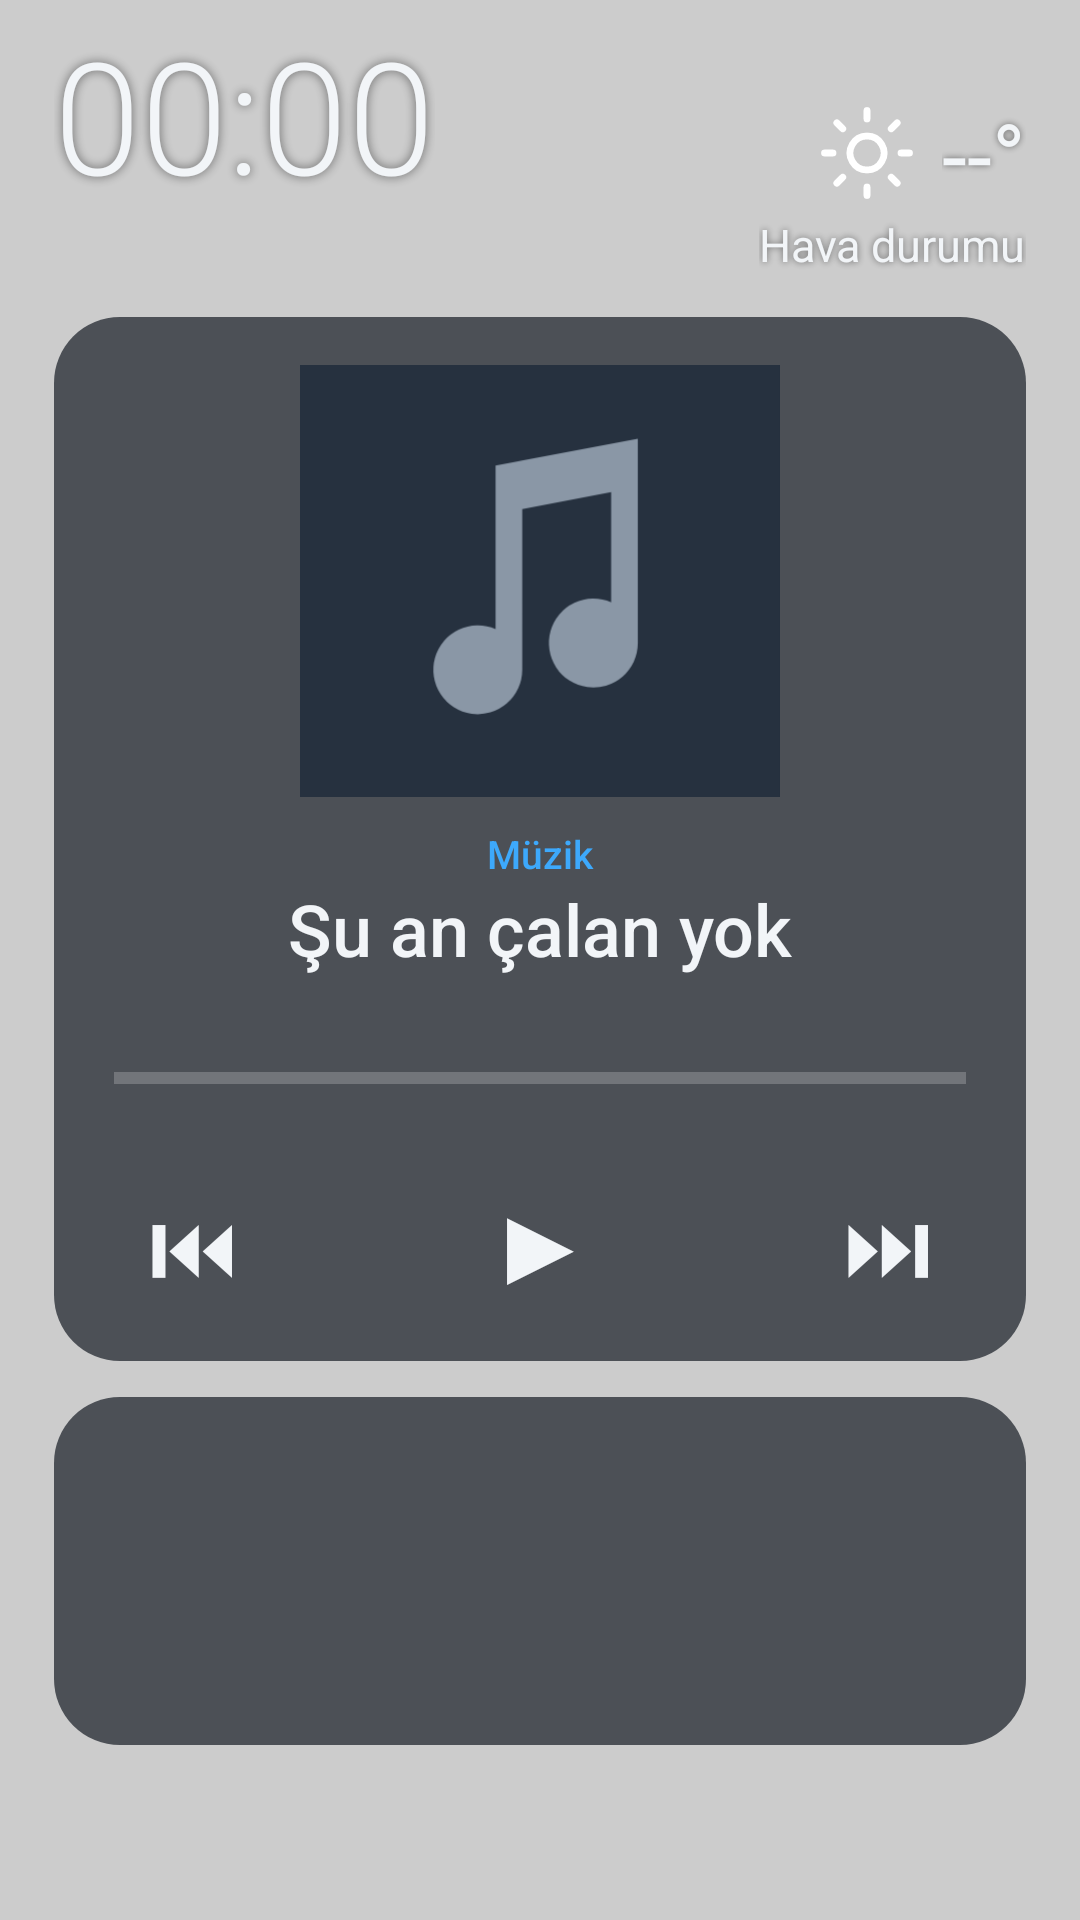

Icons on this 1080px x 1920px Android screen, each with its box as (x1, y1, x2, y2):
gunes: (821, 107, 913, 199)
